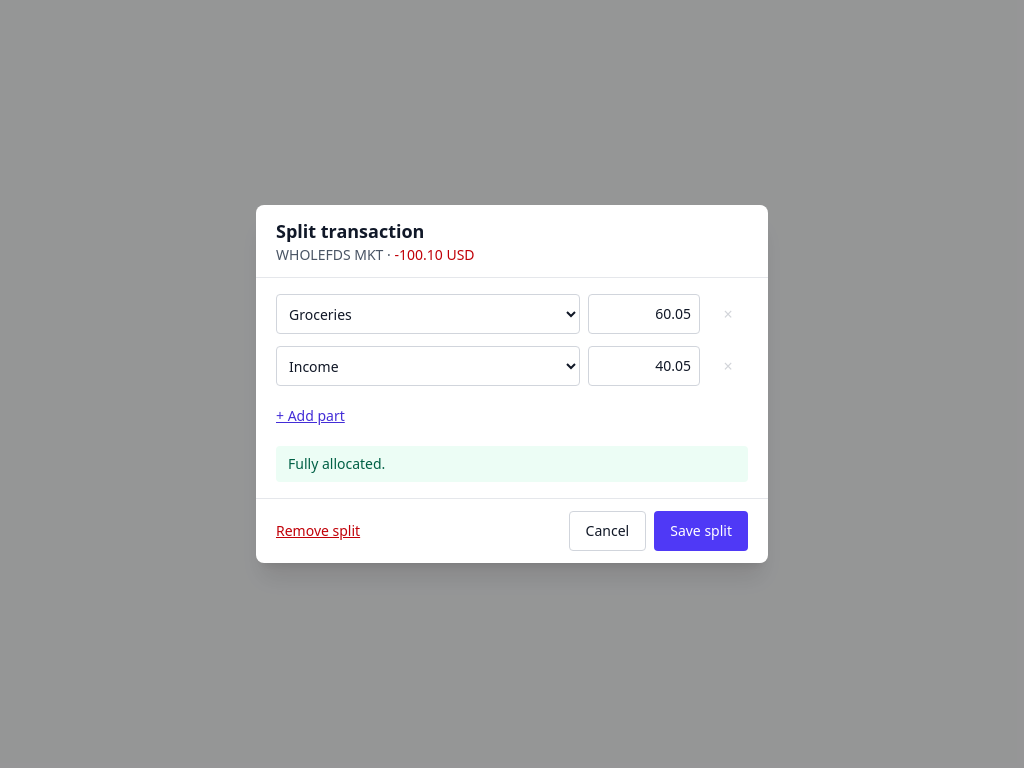
Scenario: SplitTransactionModal (#438) › does not rewrite a saved split on open or edit (#506)
Replace the text in the field named "Amount for part 1" with "50" at (644, 314), box [588, 294, 700, 334]
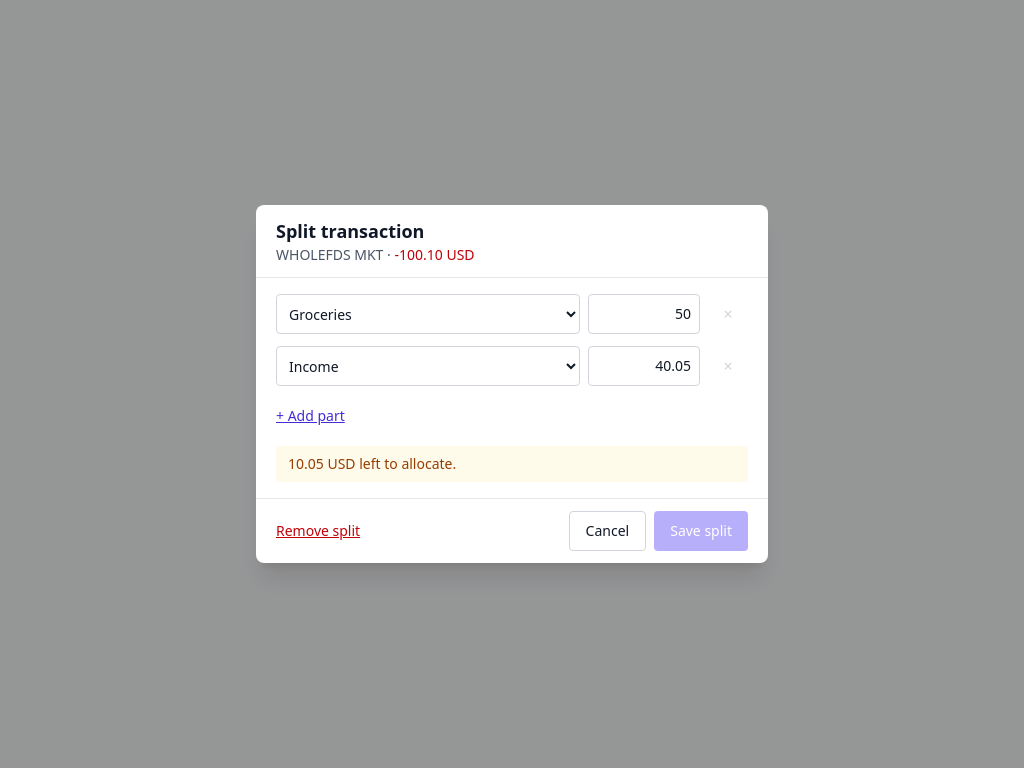
Expected: the field named "Amount for part 2" holds "40.05", [588, 346, 700, 386]
Result: the message reads "10.05 USD left to allocate." at [276, 446, 748, 482]
